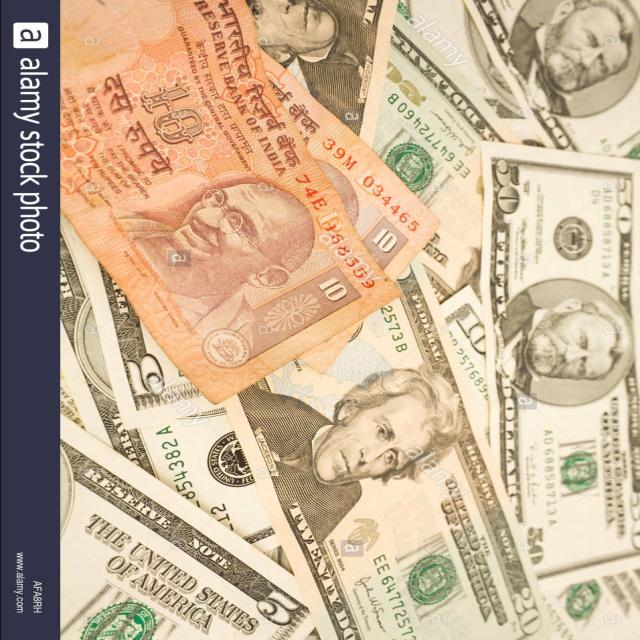10IndianRupees: (59, 0, 375, 397)
